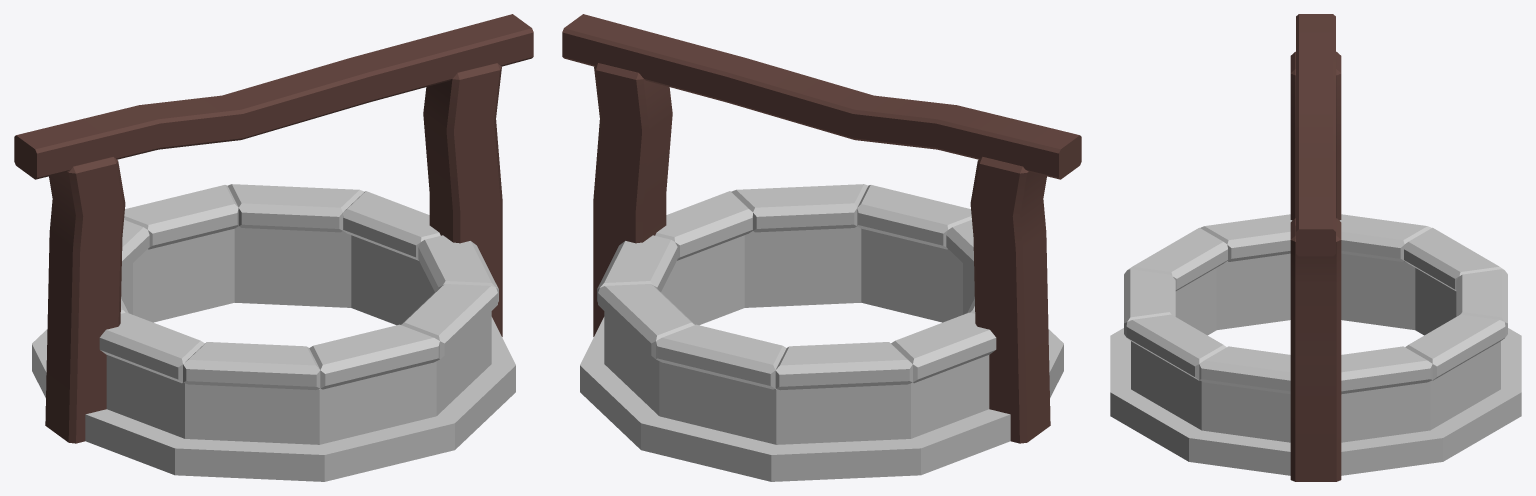
Rendered from Well.fbx.
3 renders of one model, left to right at view 1: azimuth 30°, elevation 25°; view 2: azimuth 150°, elevation 25°; view 3: azimuth 270°, elevation 25°, orthographic. The views are drawn at different scales.
Parts seen in each view (by area): view 1: pCylinder4, pCylinder5, pCube3, pCube4; view 2: pCylinder4, pCylinder5, pCube3, pCube4; view 3: pCylinder4, pCylinder5, pCube3, pCube4.
Part boxes in pixels (<box>): pCylinder4: <box>32,226,515,481</box>; pCylinder5: <box>99,184,498,390</box>; pCube3: <box>45,63,502,443</box>; pCube4: <box>14,14,533,179</box>; pCylinder4: <box>580,226,1063,481</box>; pCylinder5: <box>597,184,996,390</box>; pCube3: <box>593,63,1050,443</box>; pCube4: <box>562,14,1081,179</box>; pCylinder4: <box>1110,253,1521,475</box>; pCylinder5: <box>1124,214,1507,394</box>; pCube3: <box>1290,51,1341,481</box>; pCube4: <box>1296,14,1335,256</box>.
Size of the model in its own units: 0.0331 by 0.0191 by 0.0267.
